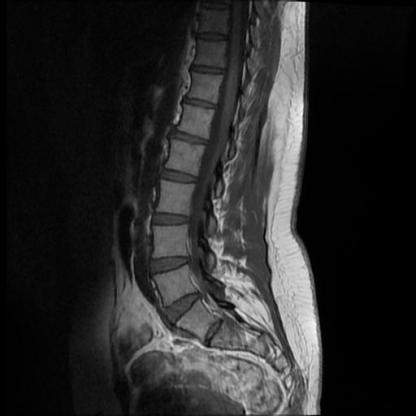Annular Disc Relaxationrotation: (160, 295, 206, 317), (196, 319, 232, 339)
Degenerative Disc Diseaserotation: (161, 295, 206, 317), (161, 167, 201, 187), (197, 319, 232, 338)
Disc Bulgerotation: (160, 167, 201, 187)
